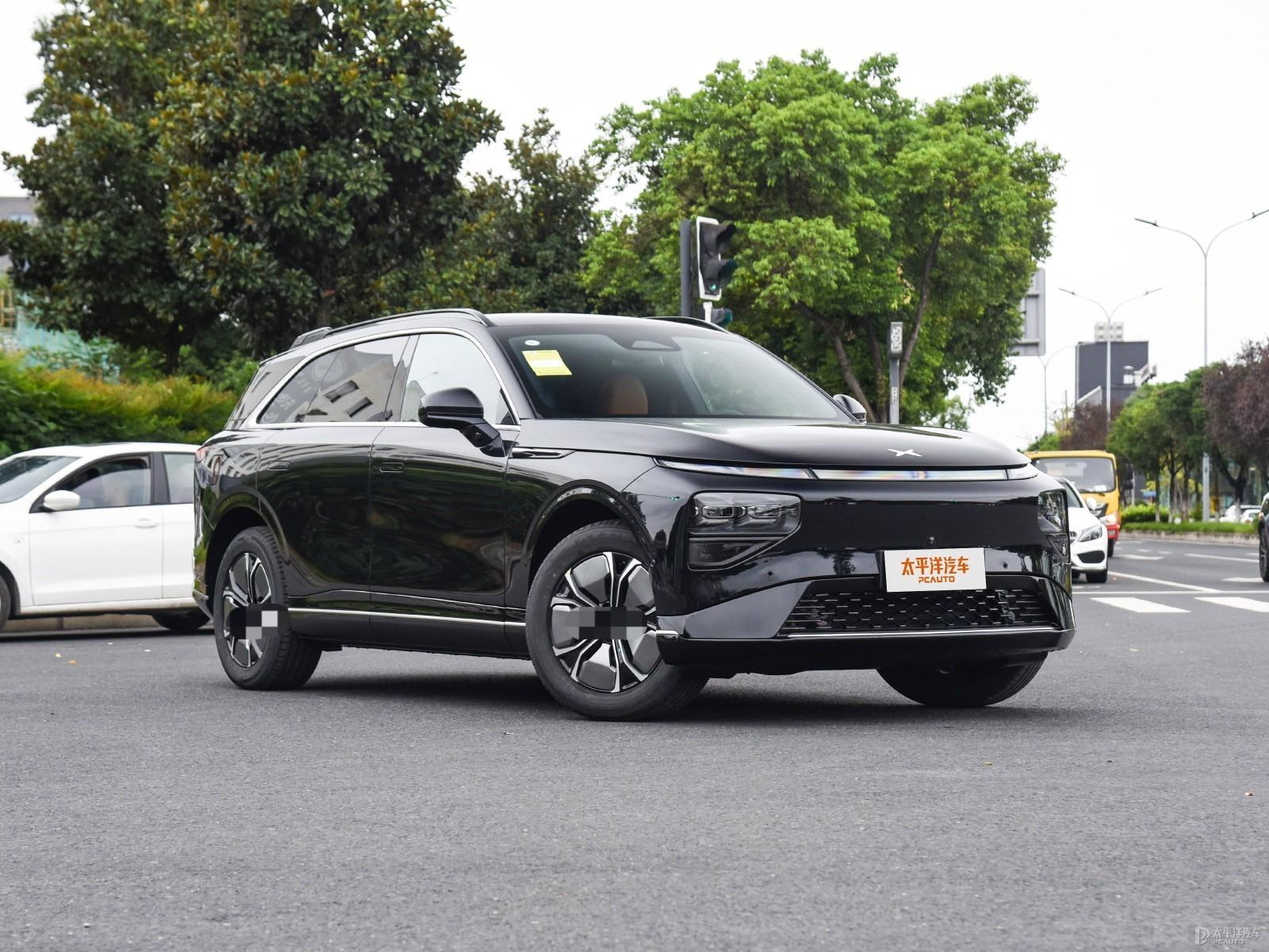XPeng Motors: (887, 448, 922, 457)
